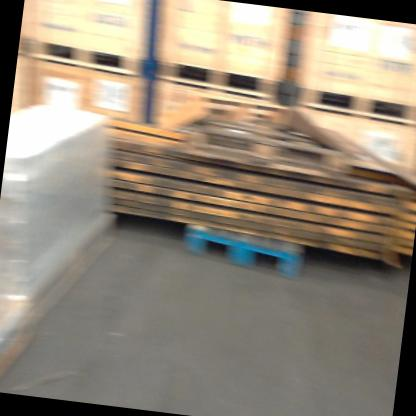pallet: (145, 42, 281, 112), (172, 219, 309, 282), (295, 68, 416, 132), (23, 23, 145, 77)
